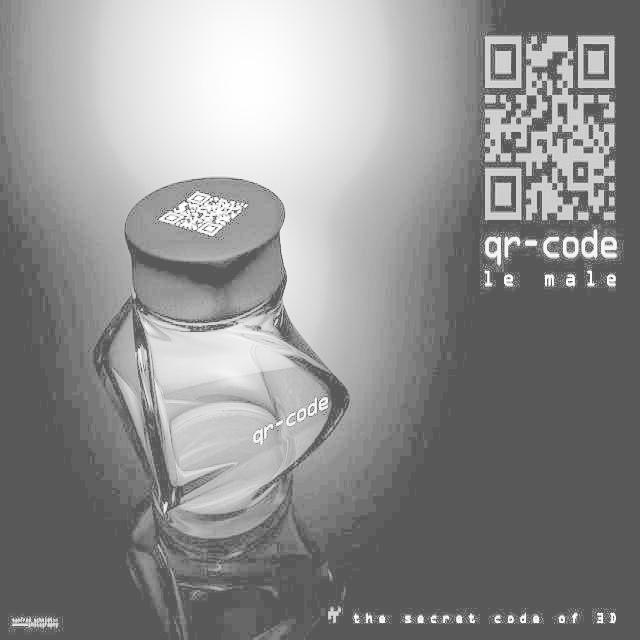qr_code: (485, 36, 614, 219), (159, 190, 247, 236)
